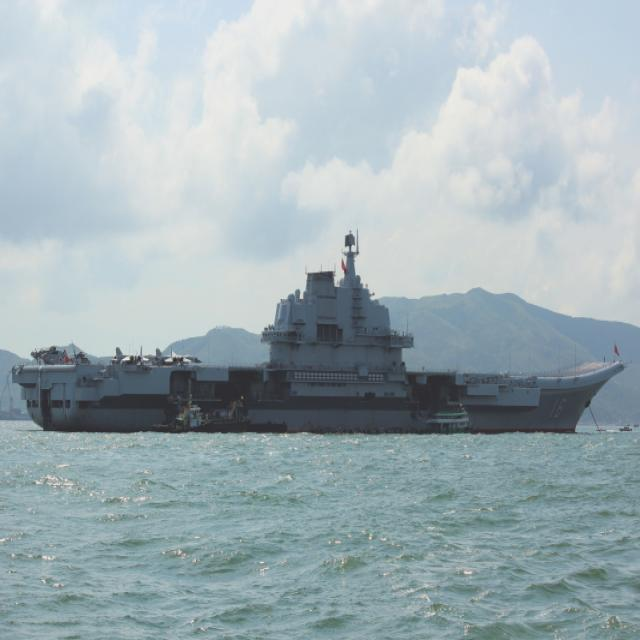Portanaves: (13, 217, 634, 432)
